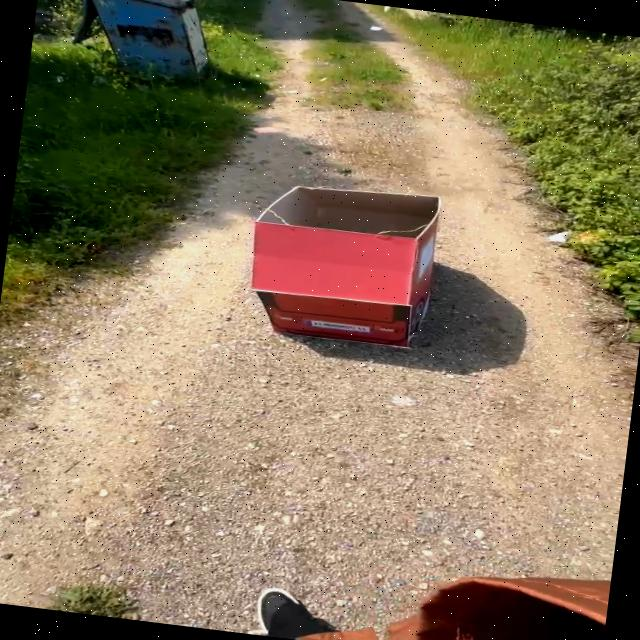red_car: (186, 157, 498, 370)
